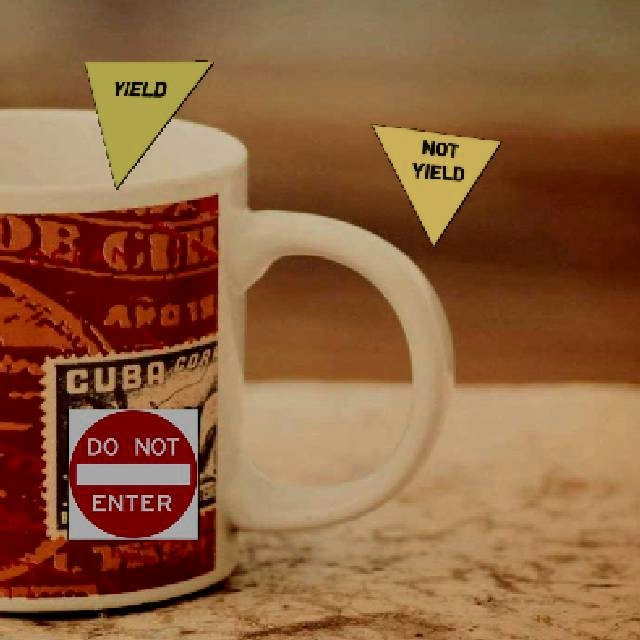DO_NOT_ENTER: (66, 407, 198, 539)
NOT_YIELD: (369, 122, 501, 247)
YIELD: (82, 59, 214, 190)
